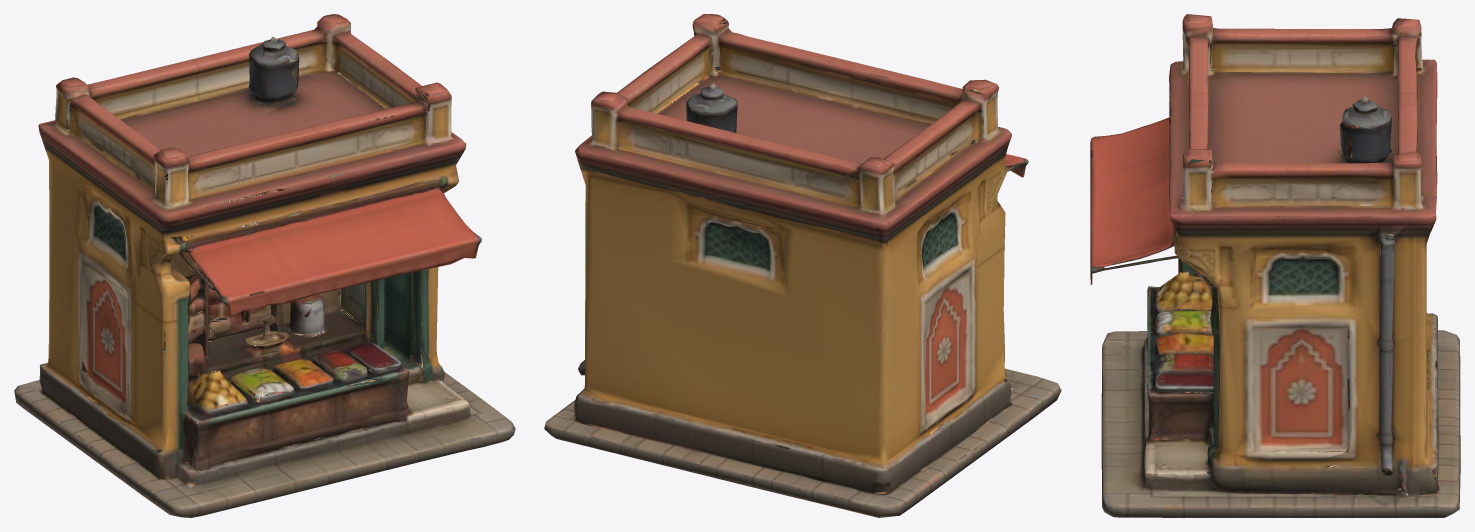
The model's file is mithai.glb.
3 views of the same model, side by side, from view 1: azimuth 30°, elevation 25°; view 2: azimuth 150°, elevation 25°; view 3: azimuth 270°, elevation 25° (orthographic). The views are drawn at different scales.
Parts seen in each view (by area): view 1: tripo_node_026641a2; view 2: tripo_node_026641a2; view 3: tripo_node_026641a2.
Part boxes in pixels (left/top/right/bottom): tripo_node_026641a2: left=14, top=14, right=515, bottom=517; tripo_node_026641a2: left=544, top=14, right=1061, bottom=517; tripo_node_026641a2: left=1090, top=14, right=1460, bottom=517.
Size of the model in its own units: 97.77 by 92.5 by 86.17.
1 material, 1 textured.
